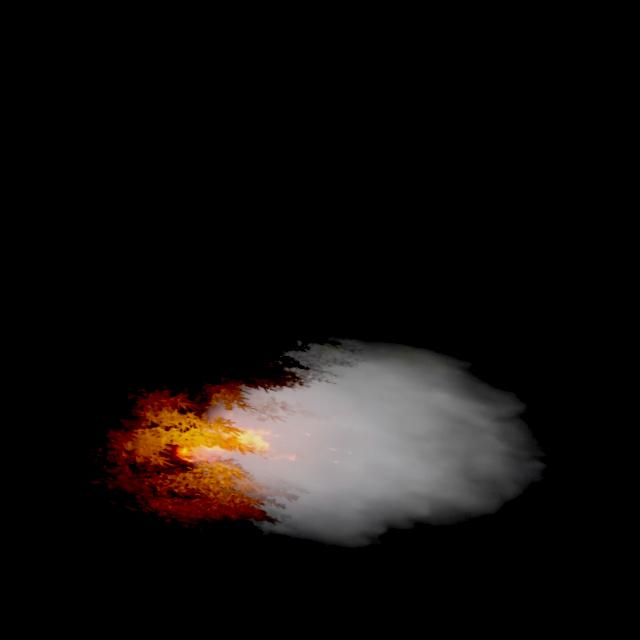fire: (173, 412, 296, 480)
smoke: (187, 301, 584, 600)
